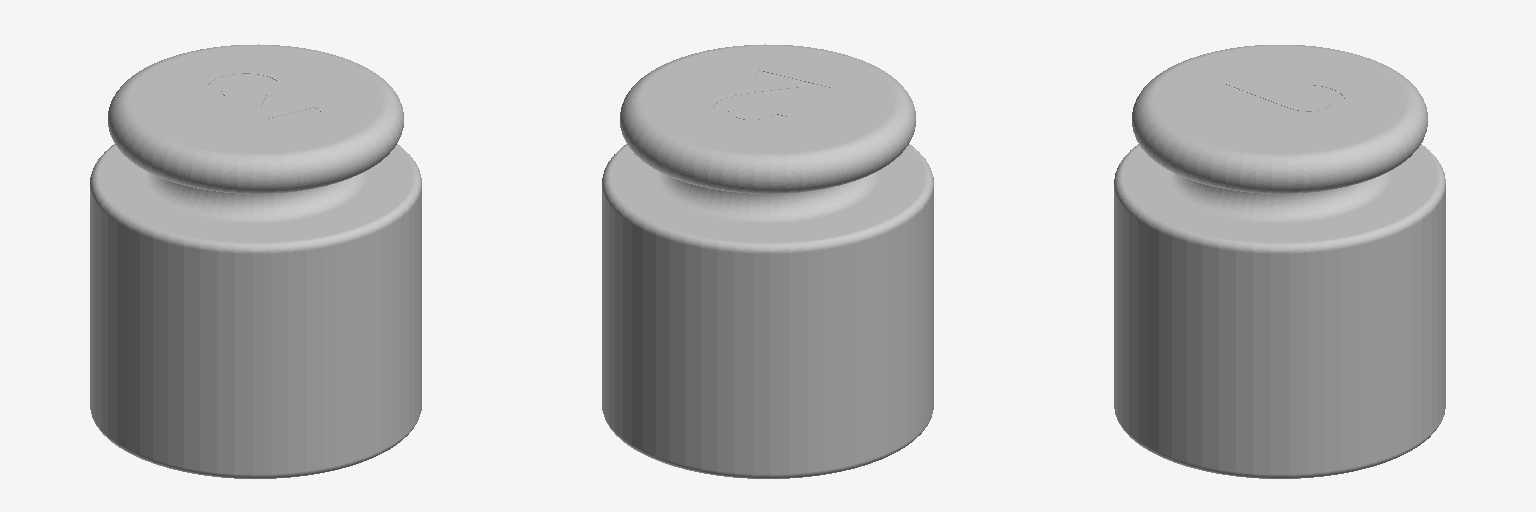
The model's file is Test_Weight_2G.obj.
3 views of the same model, side by side, from view 1: azimuth 30°, elevation 25°; view 2: azimuth 150°, elevation 25°; view 3: azimuth 270°, elevation 25° (orthographic).
Visible parts, largest first — view 1: mesh2, mesh8, mesh7, mesh4, mesh5, mesh3, mesh10, mesh1; view 2: mesh2, mesh8, mesh7, mesh4, mesh5, mesh3, mesh10, mesh1; view 3: mesh2, mesh8, mesh7, mesh4, mesh5, mesh3, mesh10, mesh1.
Part boxes in pixels (x1,y1,x2,y2): mesh2: (90,189,421,473); mesh8: (129,46,382,153); mesh7: (108,44,403,193); mesh4: (98,146,413,242); mesh5: (146,171,365,222); mesh3: (90,144,421,253); mesh10: (206,74,319,129); mesh1: (90,409,421,478); mesh2: (602,189,933,473); mesh8: (641,46,894,153); mesh7: (620,44,915,193); mesh4: (610,146,925,242); mesh5: (658,171,877,222); mesh3: (602,144,933,253); mesh10: (713,71,828,125); mesh1: (602,409,933,478); mesh2: (1114,188,1445,473); mesh8: (1153,47,1406,153); mesh7: (1132,45,1427,193); mesh4: (1122,146,1437,242); mesh5: (1170,171,1389,222); mesh3: (1114,144,1445,253); mesh10: (1223,83,1344,117); mesh1: (1115,413,1444,478).
Size of the model in its own units: 0.0074 by 0.0076 by 0.0074.